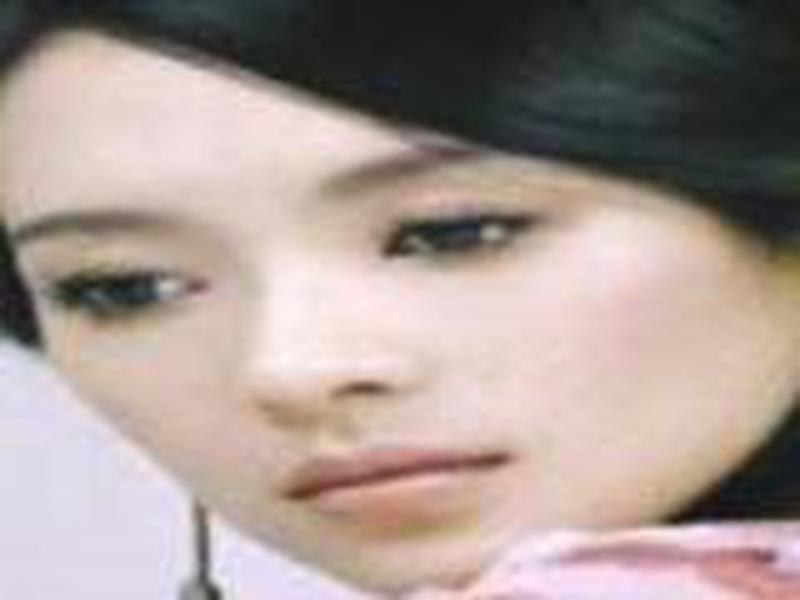without_mask: (1, 93, 793, 582)
